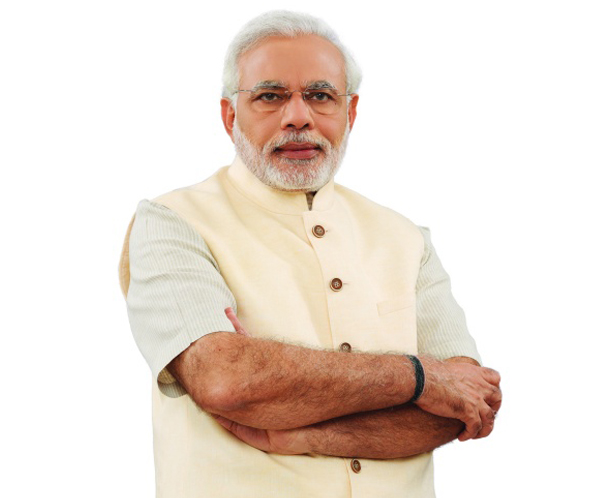modi: (183, 2, 428, 247)
